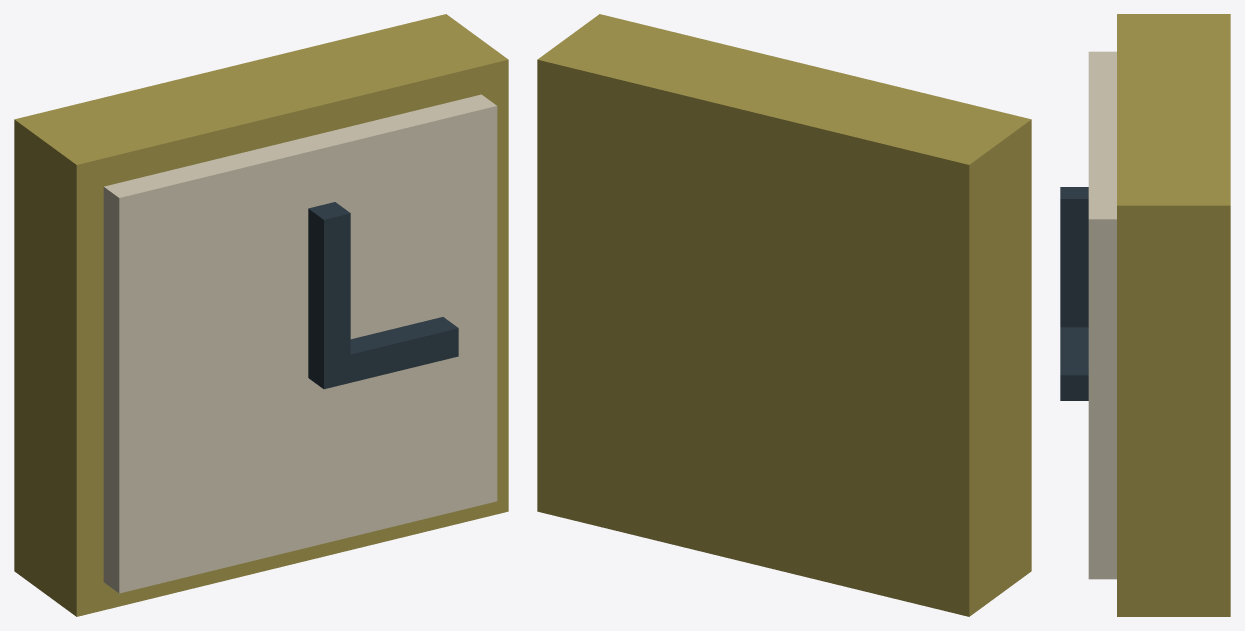
Rendered from energy-10.glb.
3 renders of one model, left to right at view 1: azimuth 30°, elevation 25°; view 2: azimuth 150°, elevation 25°; view 3: azimuth 270°, elevation 25°, orthographic. The views are drawn at different scales.
Parts seen in each view (by area): view 1: Utility meter; view 2: Utility meter; view 3: Utility meter.
Boxes of the visible parts, x1,y1,x2,y2 form: Utility meter: [14, 14, 508, 616]; Utility meter: [537, 14, 1031, 616]; Utility meter: [1060, 14, 1230, 616].
Size of the model in its own units: 1.28 by 1.28 by 0.48.
